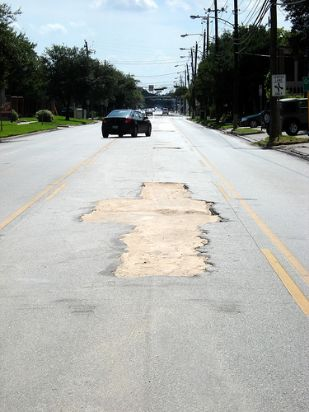pothole: (73, 178, 229, 280)
